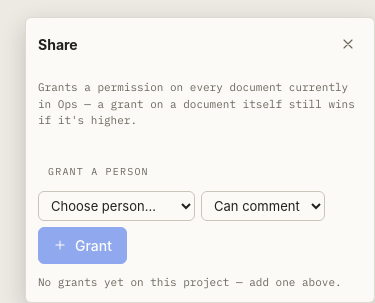
Scenario: ProjectSharePanel — misc › surfaces a mapped error banner when a grant is refused for exceeding a permission (defensive; org admins are uncapped in practice)
(page scrolled)
Expected: the text "Grant a person" is shown, [48, 164, 149, 178]
Select "Ada Lovelace" in the dropdown named "Grant to". click: (116, 206)
box: [38, 190, 195, 220]
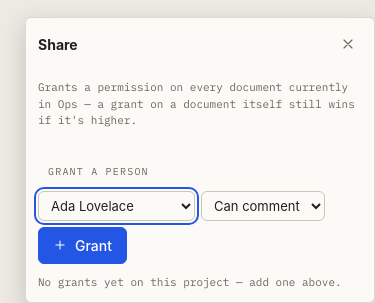
Click the button "Grant". click: (82, 245)
box: [38, 226, 127, 264]
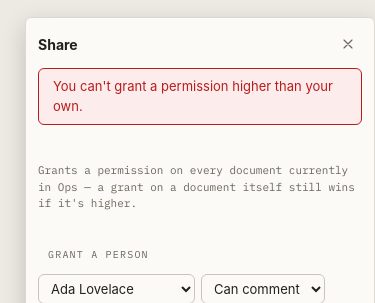
Now the text "You can't grant a permission higher than your own." is shown, box [38, 68, 362, 125]
